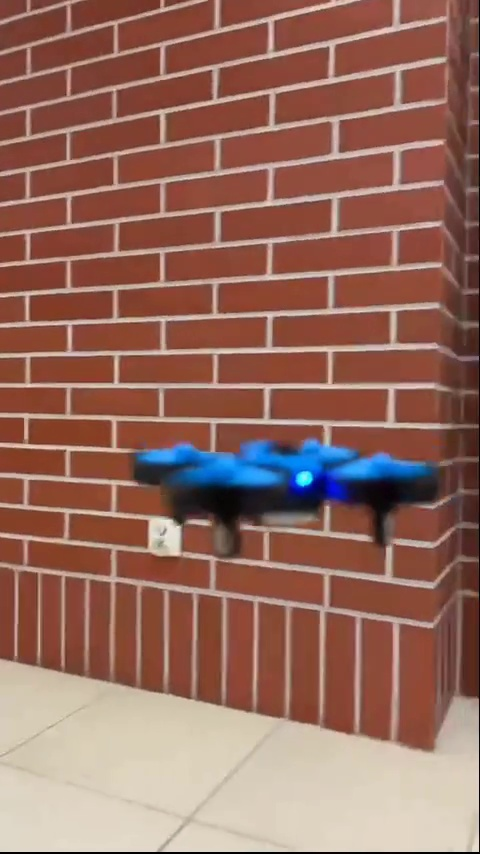drone: (134, 433, 439, 550)
